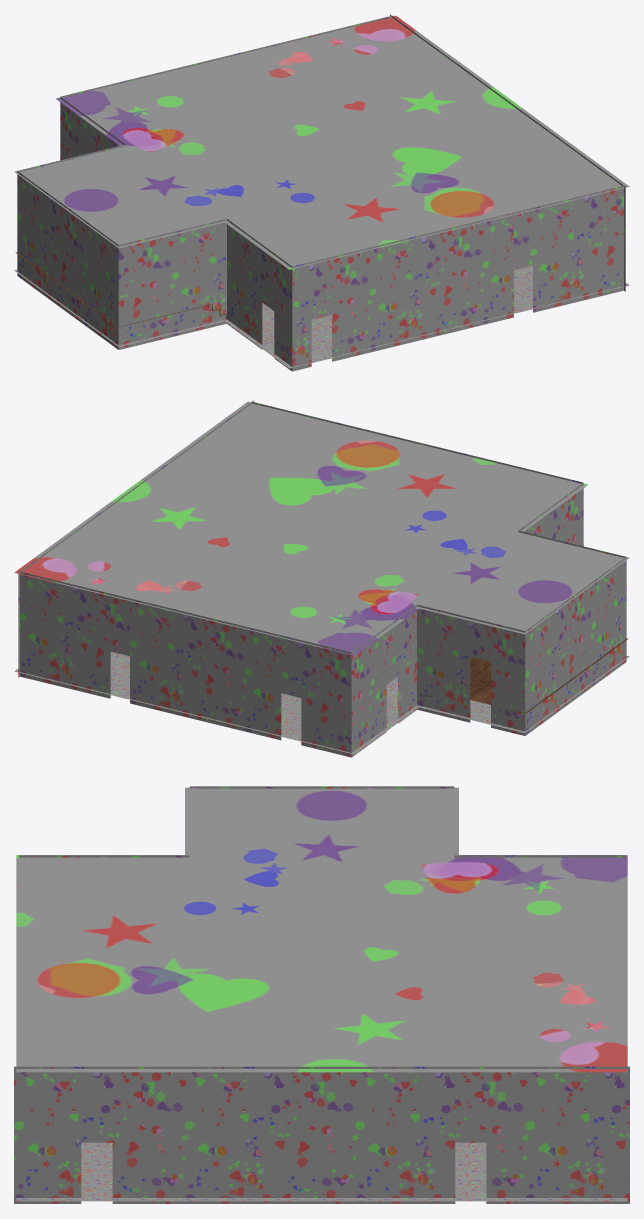
Rendered from stageMainISOLATED.fbx.
The picture shows the model from 3 angles, top to bottom: view 1: azimuth 30°, elevation 25°; view 2: azimuth 150°, elevation 25°; view 3: azimuth 270°, elevation 25°; orthographic projection. The views are drawn at different scales.
Parts seen in each view (by area): view 1: roomMain; view 2: roomMain, Cube; view 3: roomMain.
Part boxes in pixels (x1,y1,x2,y2): roomMain: (14, 14, 629, 371); roomMain: (14, 400, 629, 757); Cube: (417, 638, 628, 713); roomMain: (14, 786, 629, 1203).
Bounding box in the file's own units: 4759 × 1071 × 4352.
